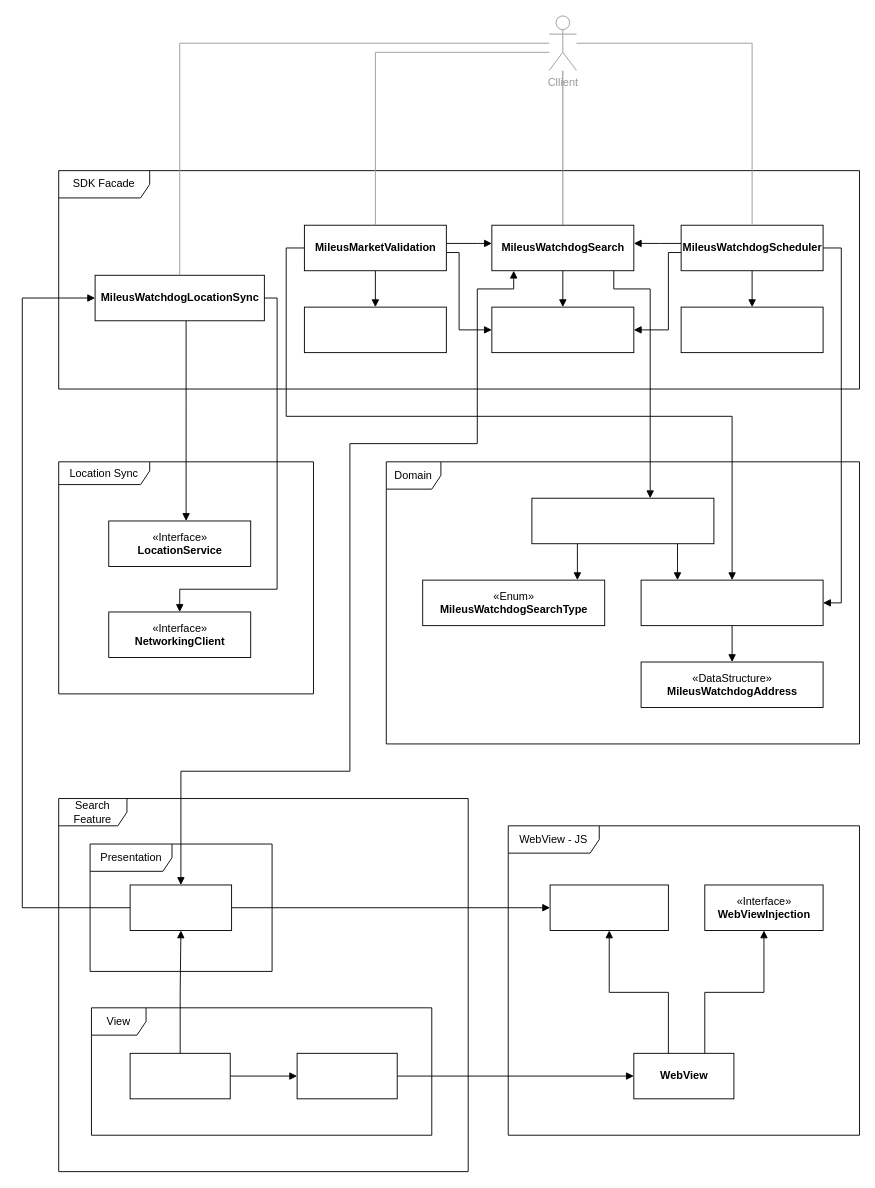
The diagram is 875 pixels wide and 1188 high, and some of its shapes have lost their labels. The shapes that lost their labels are listed below. From the top down, each one's centre as x and y in pixels, then its label:
(x=374, y=329): «Interface» MileusMarketValidation FlowDelegate
(x=562, y=329): «Interface» MileusWatchdogSearch FlowDelegate
(x=751, y=329): «Interface» MileusWatchdogScheduler FlowDelegate
(x=622, y=520): «DataStructure» MileusWatchdogSearchData
(x=731, y=602): «DataStructure» MileusWatchdogLocation
(x=180, y=907): SearchVM
(x=608, y=907): «Interface» WebViewMessage
(x=179, y=1075): SearchVC
(x=346, y=1075): SearchView
